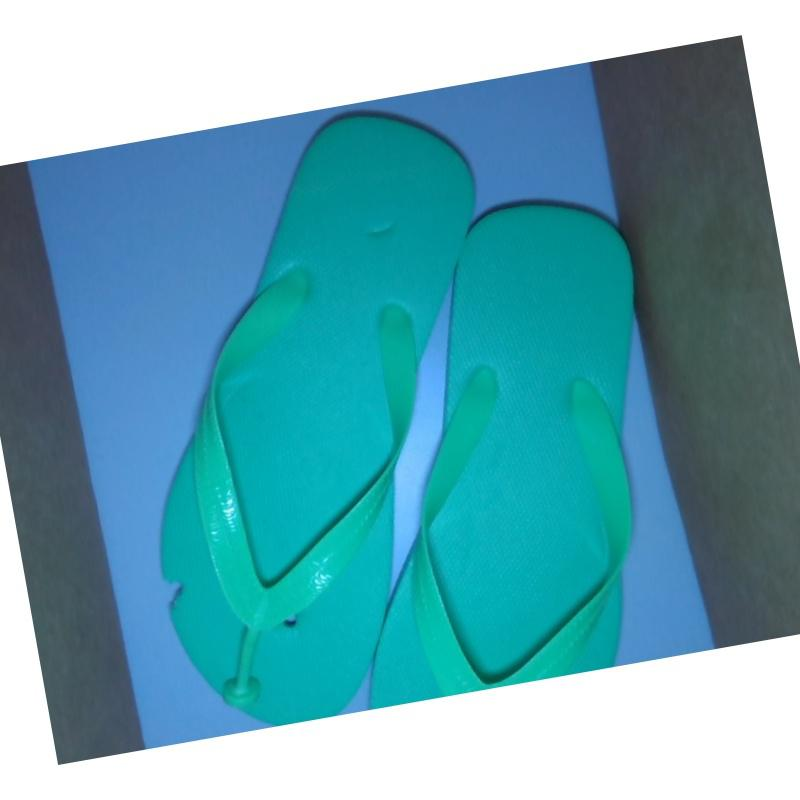chipped: (149, 561, 195, 623)
detached: (210, 638, 272, 715)
